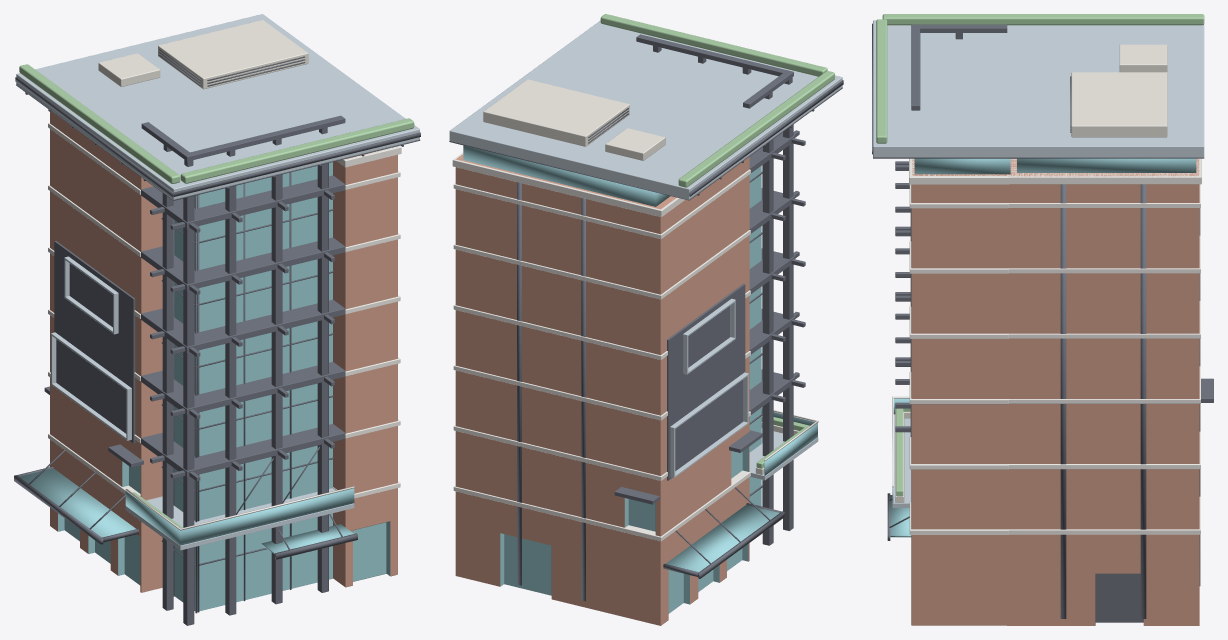
3 views of the same model, side by side, from view 1: azimuth 30°, elevation 25°; view 2: azimuth 150°, elevation 25°; view 3: azimuth 270°, elevation 25° (orthographic). The views are drawn at different scales.
Parts seen in each view (by area): view 1: main; view 2: main; view 3: main.
Boxes of the visible parts, x1,y1,x2,y2 form: main: (14,14,420,625); main: (449,14,843,625); main: (872,14,1213,625).
Size of the model in its own units: 19.19 by 34 by 21.36.
